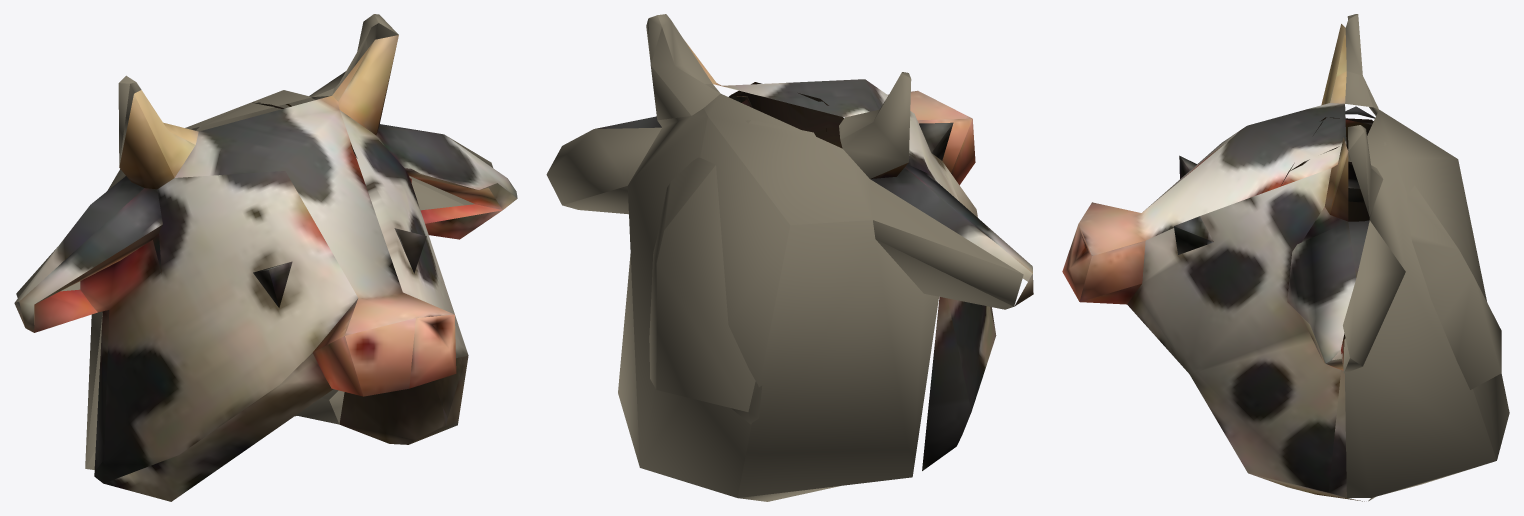
File: cow.glb
3 renders of one model, left to right at view 1: azimuth 30°, elevation 25°; view 2: azimuth 150°, elevation 25°; view 3: azimuth 270°, elevation 25°, orthographic. The views are drawn at different scales.
Visible parts, largest first — view 1: geometry_0; view 2: geometry_0; view 3: geometry_0.
Part boxes in pixels (x1=…): geometry_0: x1=14, y1=14, x2=517, y2=501; geometry_0: x1=546, y1=14, x2=1033, y2=501; geometry_0: x1=1062, y1=14, x2=1509, y2=501.
Bounding box in the file's own units: 0.5823 × 0.4703 × 0.4983.
2 materials, 1 textured.
